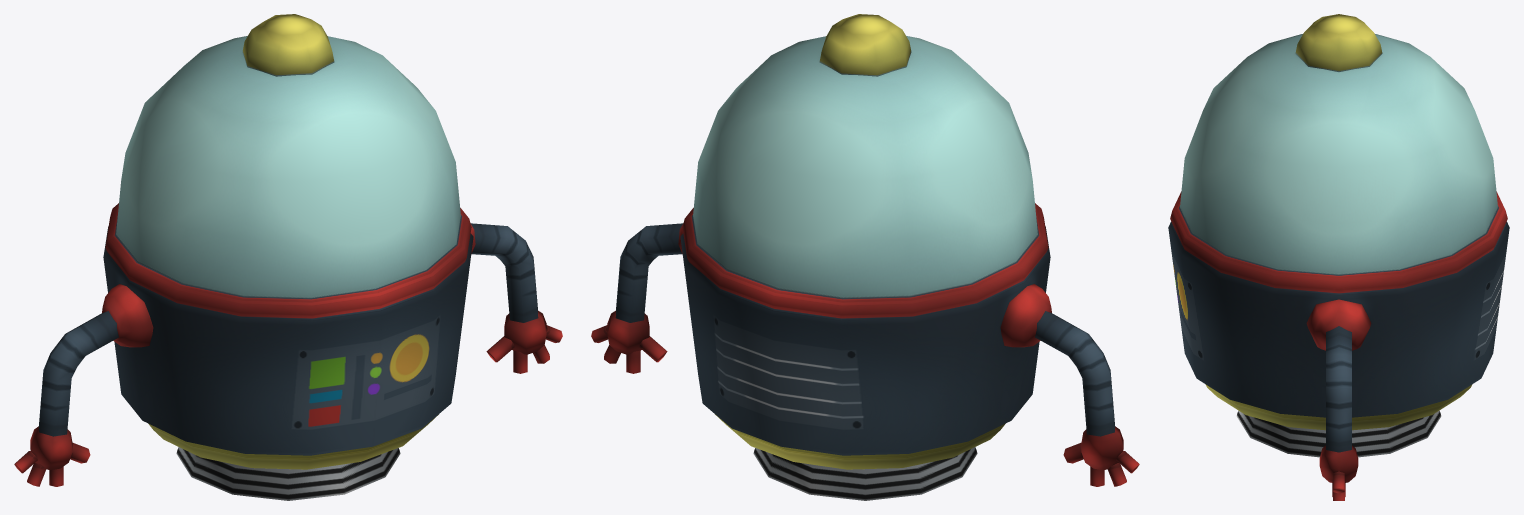
3 renders of one model, left to right at view 1: azimuth 30°, elevation 25°; view 2: azimuth 150°, elevation 25°; view 3: azimuth 270°, elevation 25°, orthographic. The views are drawn at different scales.
Parts seen in each view (by area): view 1: S002; view 2: S002; view 3: S002.
Part boxes in pixels (x1,y1,x2,y2): S002: (14, 14, 562, 500); S002: (591, 14, 1139, 500); S002: (1168, 14, 1509, 500).
Bounding box in the file's own units: 56.49 × 42.91 × 33.45.
Materials: 1 (1 with a texture image).
